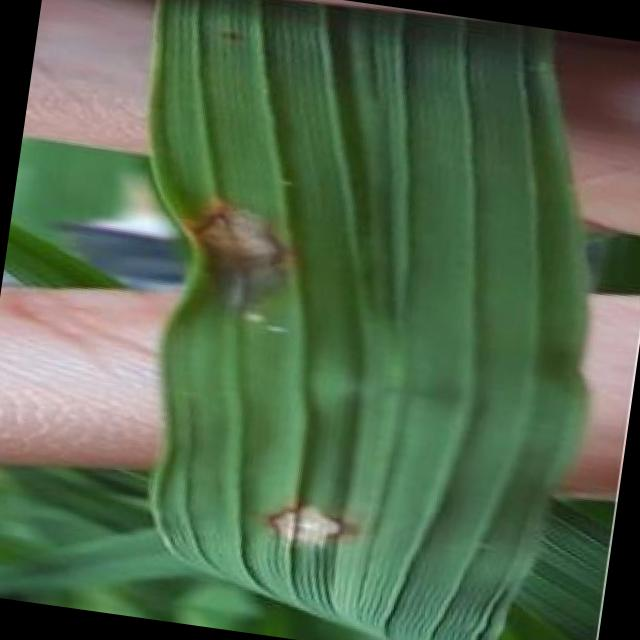Rice_Blast: (160, 150, 322, 345), (220, 454, 370, 568)
